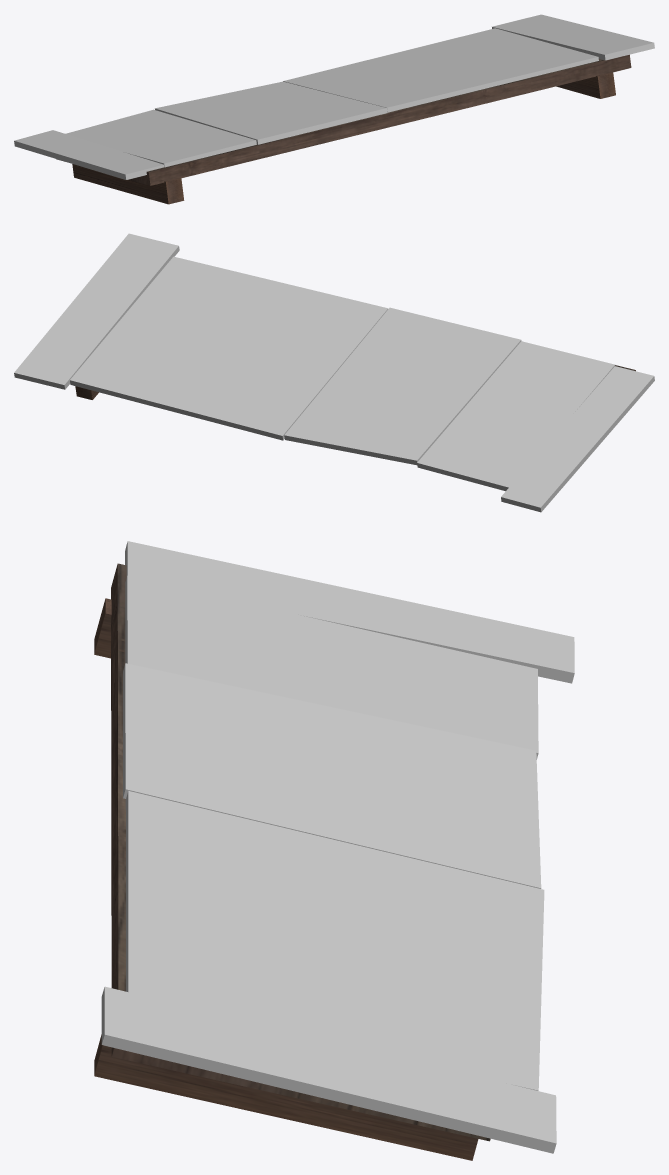
File: jovhouse_sunshade03bc.fbx
3 views of the same model, one above another, from view 1: azimuth 30°, elevation 25°; view 2: azimuth 150°, elevation 25°; view 3: azimuth 270°, elevation 25° (orthographic). The views are drawn at different scales.
Parts seen in each view (by area): view 1: jovhouse_sunshade03bc; view 2: jovhouse_sunshade03bc; view 3: jovhouse_sunshade03bc.
Boxes of the visible parts, <box> form: jovhouse_sunshade03bc: <box>14,14,654,204</box>; jovhouse_sunshade03bc: <box>14,233,654,512</box>; jovhouse_sunshade03bc: <box>94,541,574,1160</box>.
Size of the model in its own units: 276 by 41.95 by 110.
